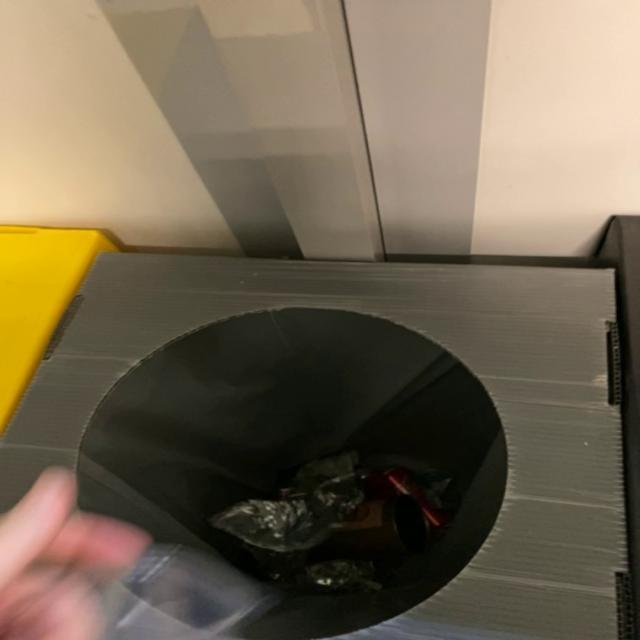Bin: (1, 253, 626, 640)
Metal: (209, 500, 331, 553)
